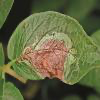Potato leaf late blight: (6, 10, 99, 86)
